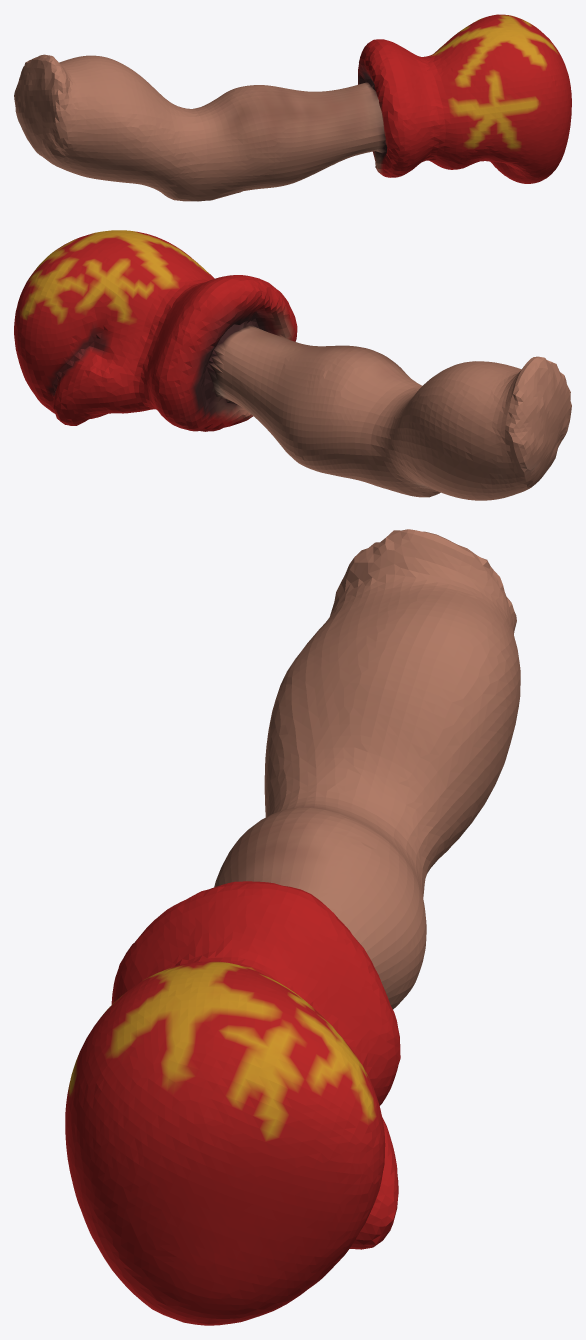
Rendered from GantboxeBras.glb.
3 views of the same model, one above another, from view 1: azimuth 30°, elevation 25°; view 2: azimuth 150°, elevation 25°; view 3: azimuth 270°, elevation 25° (orthographic). The views are drawn at different scales.
Parts seen in each view (by area): view 1: Cylindre 2; view 2: Cylindre 2; view 3: Cylindre 2.
Part boxes in pixels (left/top/right/bottom): Cylindre 2: left=14, top=14, right=571, bottom=201; Cylindre 2: left=14, top=230, right=571, bottom=500; Cylindre 2: left=65, top=529, right=520, bottom=1325.
Bounding box in the file's own units: 3.78 × 1.41 × 1.56.
